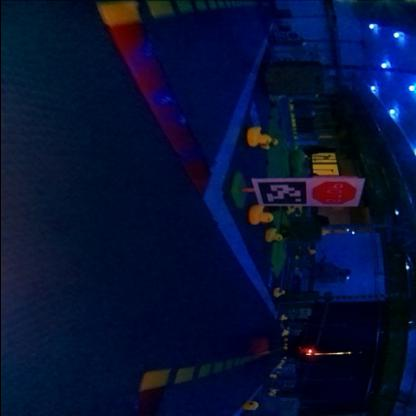Duckie: (250, 204, 274, 226), (249, 128, 271, 148), (264, 230, 283, 244), (273, 288, 285, 298), (244, 402, 258, 410), (280, 316, 288, 322)
QR code: (258, 184, 308, 206)
Stop sign: (312, 182, 356, 206)
